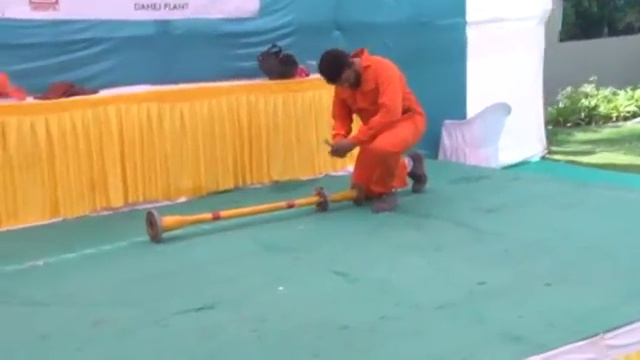helmet_off: (317, 48, 364, 89)
person: (314, 45, 428, 208)
